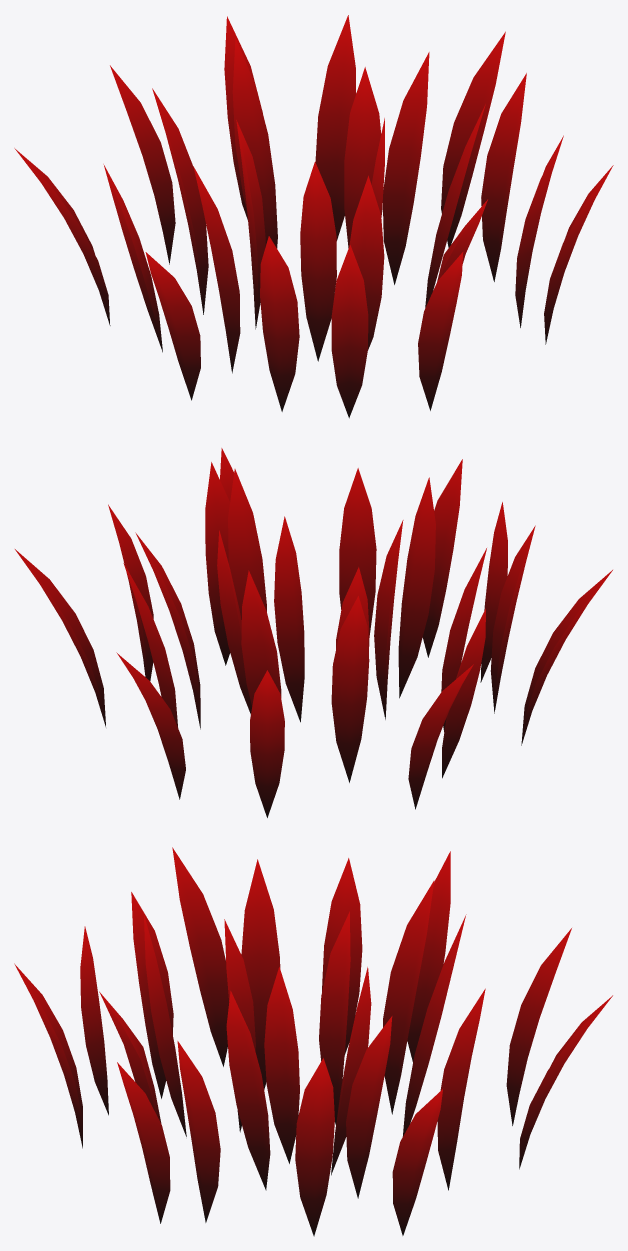
The model's file is Grass.fbx.
3 views of the same model, one above another, from view 1: azimuth 30°, elevation 25°; view 2: azimuth 150°, elevation 25°; view 3: azimuth 270°, elevation 25° (orthographic). The views are drawn at different scales.
Visible parts, largest first — view 1: Plane.023; view 2: Plane.023; view 3: Plane.023.
Boxes of the visible parts, x1,y1,x2,y2 form: Plane.023: [14, 15, 613, 418]; Plane.023: [15, 448, 612, 817]; Plane.023: [14, 847, 612, 1236].
Size of the model in its own units: 214 by 97.75 by 224.
